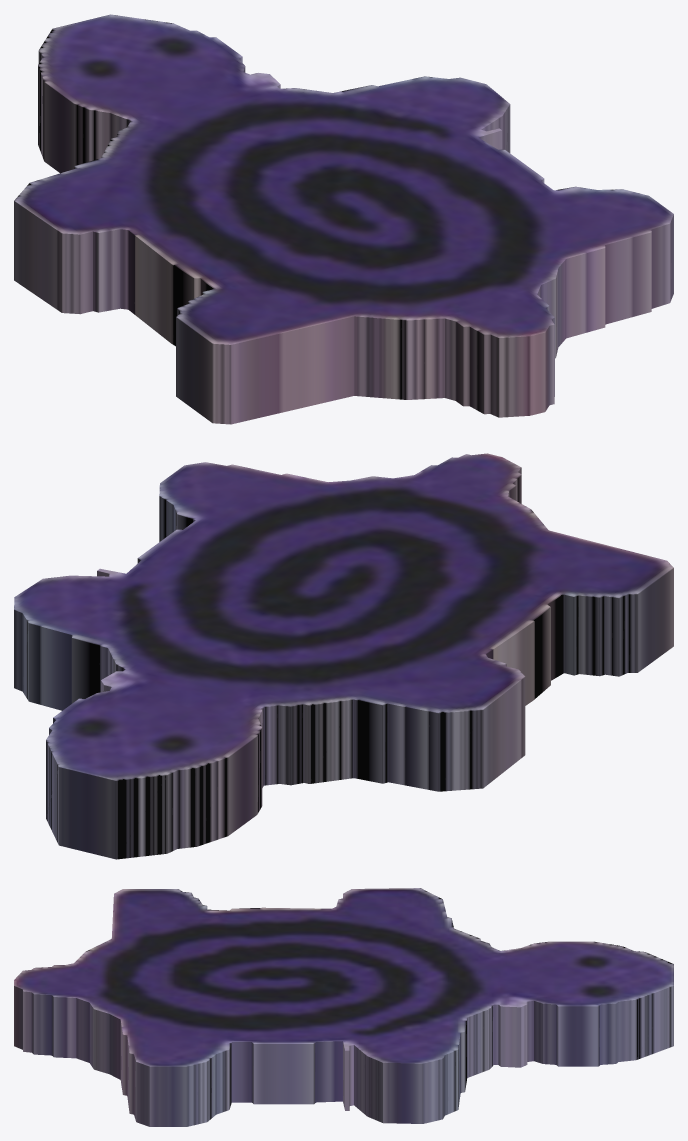
The model's file is zolwFioletowy.gltf.
The picture shows the model from 3 angles, top to bottom: view 1: azimuth 30°, elevation 25°; view 2: azimuth 150°, elevation 25°; view 3: azimuth 270°, elevation 25°; orthographic projection. The views are drawn at different scales.
Size of the model in its own units: 4.83 by 0.762 by 7.54.
Materials: 1 (1 with a texture image).
